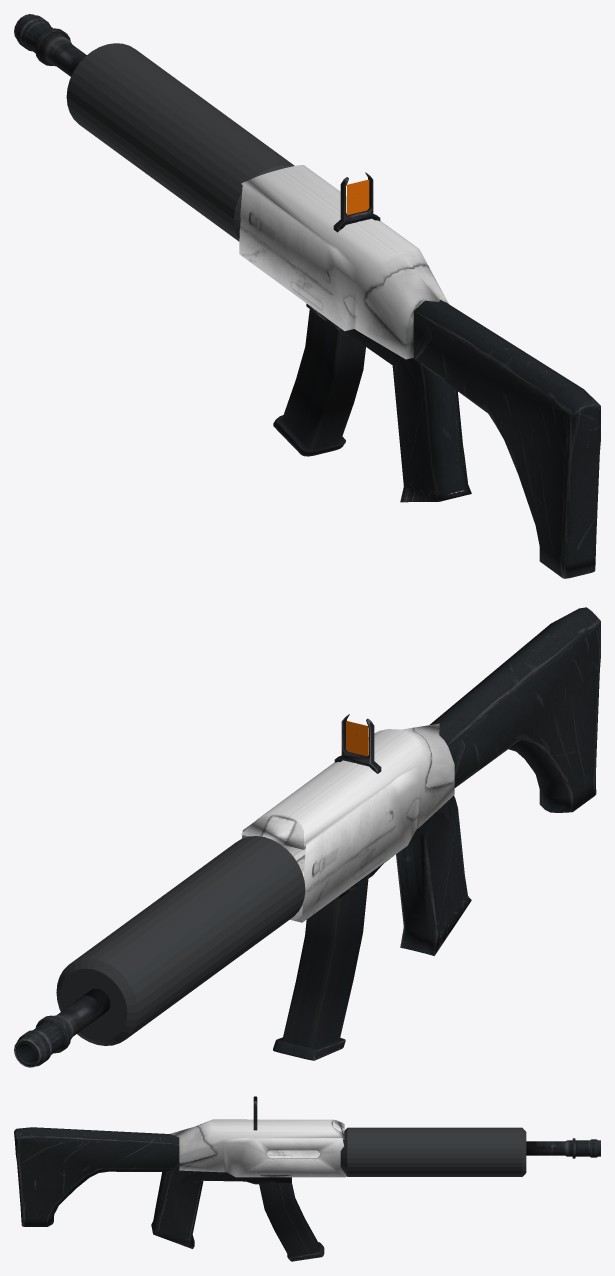
The model's file is Rifle2.fbx.
The picture shows the model from 3 angles, top to bottom: view 1: azimuth 30°, elevation 25°; view 2: azimuth 150°, elevation 25°; view 3: azimuth 270°, elevation 25°; orthographic projection. The views are drawn at different scales.
Visible parts, largest first — view 1: Cylinder; view 2: Cylinder, Scope; view 3: Cylinder.
Boxes of the visible parts, <box> form: Cylinder: <box>14,14,600,578</box>; Cylinder: <box>14,607,600,1067</box>; Scope: <box>346,720,368,756</box>; Cylinder: <box>14,1096,600,1261</box>.
Bounding box in the file's own units: 323 × 1144 × 3849.
